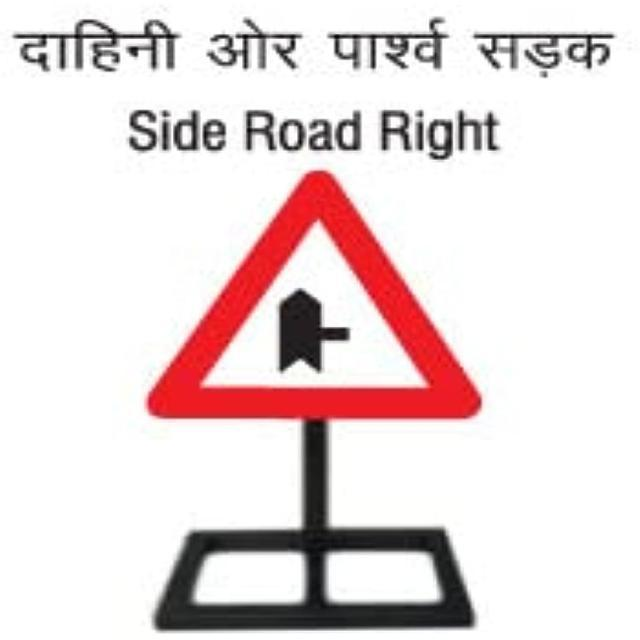side road right: (141, 166, 489, 431)
